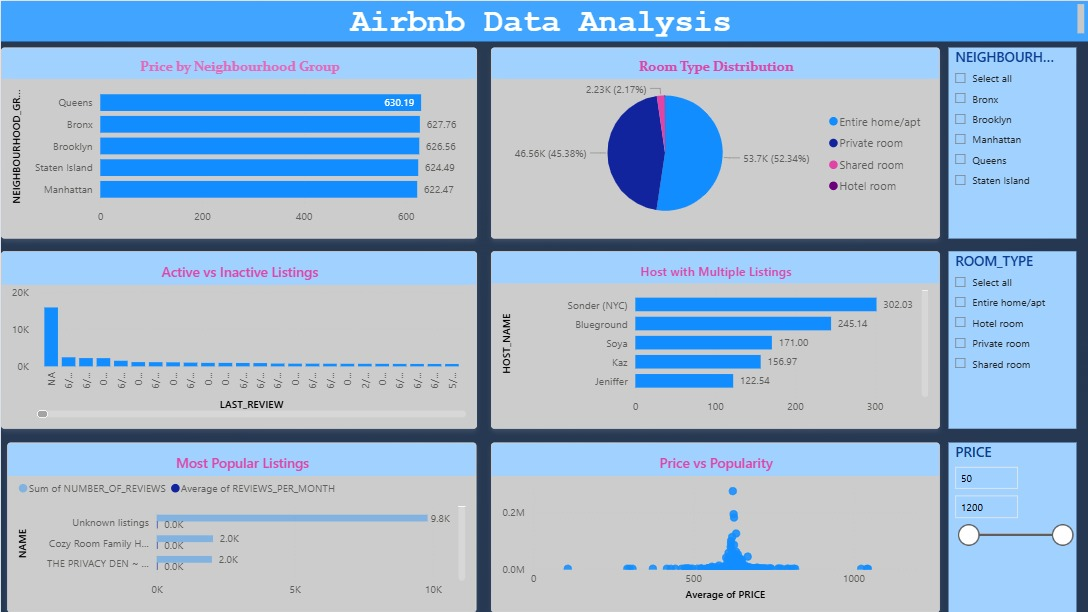

Layout of this report page (visuals, bound fields, positions):
{"tool":"powerbi","page":{"name":"Page 1","canvas":[1280,720],"ordinal":0},"visuals":[{"type":"clusteredBarChart","title":"Price by Neighbourhood Group","fields":{"Y":["Avg(Airbnb_Open_Data.PRICE)"],"Category":["Airbnb_Open_Data.NEIGHBOURHOOD_GROUP"]},"box":[0,55.9,560.3,225],"z":0},{"type":"pieChart","title":"Room Type Distribution","fields":{"Category":["Airbnb_Open_Data.ROOM_TYPE"],"Y":["CountNonNull(Airbnb_Open_Data.ID)"]},"box":[576.5,55.9,527.9,225],"z":1000},{"type":"columnChart","title":"Active vs Inactive Listings","fields":{"Category":["Airbnb_Open_Data.LAST_REVIEW"],"Y":["CountNonNull(Airbnb_Open_Data.ID)"]},"box":[0,295.6,560.3,208.8],"z":2000},{"type":"clusteredBarChart","title":"Host with Multiple Listings","fields":{"Category":["Airbnb_Open_Data.HOST_NAME"],"Y":["Avg(Airbnb_Open_Data.CALCULATED_HOST_LISTINGS_COUNT)"]},"box":[576.5,295.6,527.9,208.8],"z":3000},{"type":"clusteredBarChart","title":"Most Popular Listings","fields":{"Category":["Airbnb_Open_Data.NAME"],"Y":["Sum(Airbnb_Open_Data.NUMBER_OF_REVIEWS)","Avg(Airbnb_Open_Data.REVIEWS_PER_MONTH)"]},"box":[8,520,552,200],"z":4000},{"type":"scatterChart","title":"Price vs Popularity","fields":{"Category":["Airbnb_Open_Data.NEIGHBOURHOOD"],"X":["Avg(Airbnb_Open_Data.PRICE)"],"Y":["Sum(Airbnb_Open_Data.NUMBER_OF_REVIEWS)"]},"box":[576,520,528,200],"z":5000},{"type":"textbox","box":[0,0,1279.4,48.5],"z":6000},{"type":"slicer","fields":{"Values":["Airbnb_Open_Data.NEIGHBOURHOOD_GROUP"]},"box":[1114.7,55.9,150,225],"z":6001},{"type":"slicer","fields":{"Values":["Airbnb_Open_Data.ROOM_TYPE"]},"box":[1114.7,295.6,150,208.8],"z":6002},{"type":"slicer","fields":{"Values":["Airbnb_Open_Data.PRICE"]},"box":[1114.7,520.6,150,200],"z":6003}]}

Visuals, with their boxes in screenshot pixels (x1, y1, x2, y2), scaled from the page's 1280x720 canvas onto the 1088x612 screenshot:
"Price by Neighbourhood Group" clusteredBarChart: left=0, top=48, right=476, bottom=239
"Room Type Distribution" pieChart: left=490, top=48, right=939, bottom=239
"Active vs Inactive Listings" columnChart: left=0, top=251, right=476, bottom=429
"Host with Multiple Listings" clusteredBarChart: left=490, top=251, right=939, bottom=429
"Most Popular Listings" clusteredBarChart: left=7, top=442, right=476, bottom=611
"Price vs Popularity" scatterChart: left=490, top=442, right=938, bottom=611
textbox: left=0, top=0, right=1087, bottom=41
slicer - Airbnb_Open_Data.NEIGHBOURHOOD_GROUP: left=947, top=48, right=1075, bottom=239
slicer - Airbnb_Open_Data.ROOM_TYPE: left=947, top=251, right=1075, bottom=429
slicer - Airbnb_Open_Data.PRICE: left=947, top=443, right=1075, bottom=611
